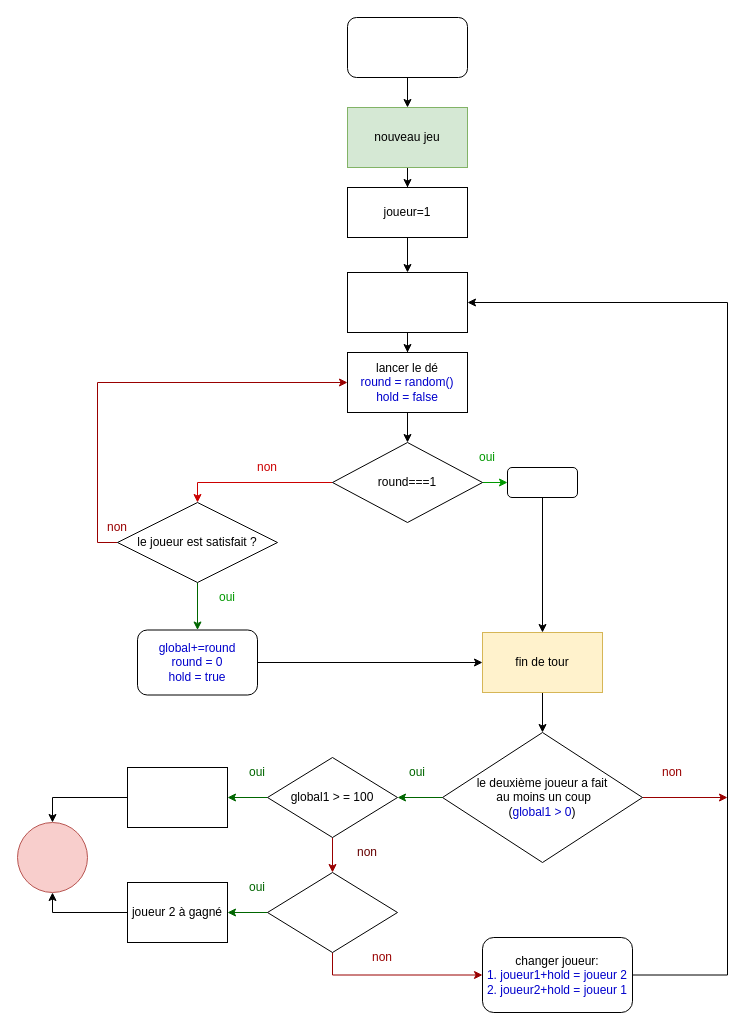
The diagram is 753 pixels wide and 1030 high, and some of its shapes have lost their labels. The shapes that lost their labels are listed below. From the top down, each one's centre as x and y in pixels, then its label:
point (407, 47): les variables global, round, joueur, hold, fin
point (407, 302): mettre joueur
point (542, 482): hold = true
point (177, 797): joueur 1 à gagné
point (52, 857): FIN de jeu initialisation
point (332, 912): global2 > = 100
